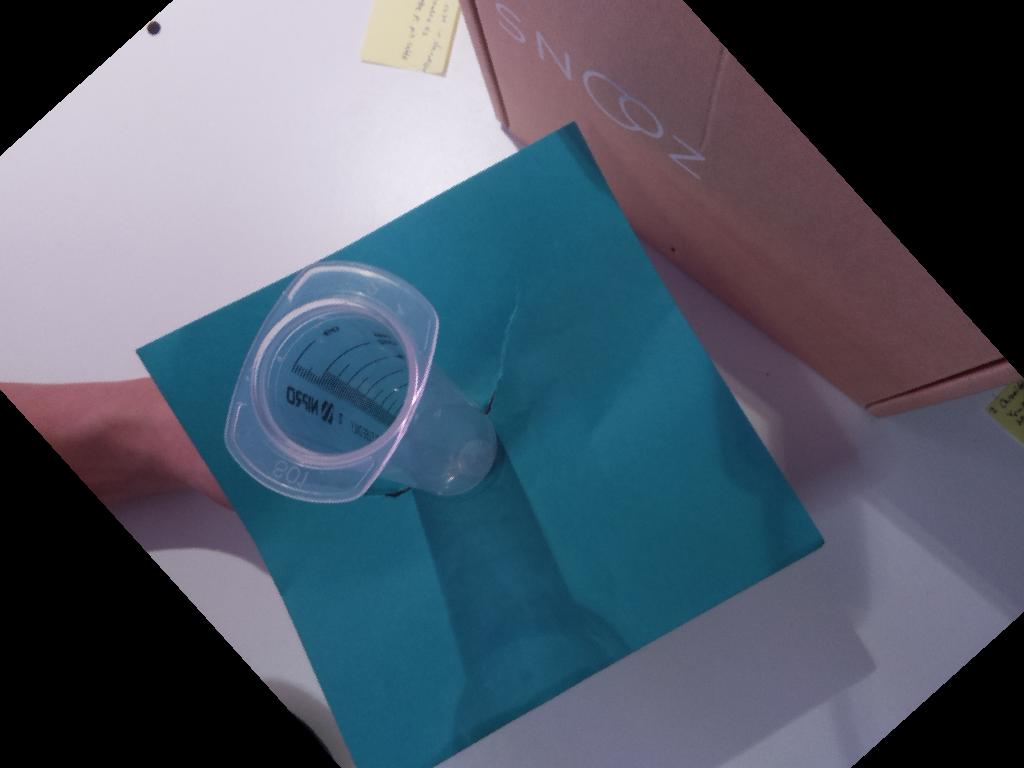clean: (225, 260, 440, 504)
